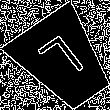L_SE: (35, 31, 93, 90)
